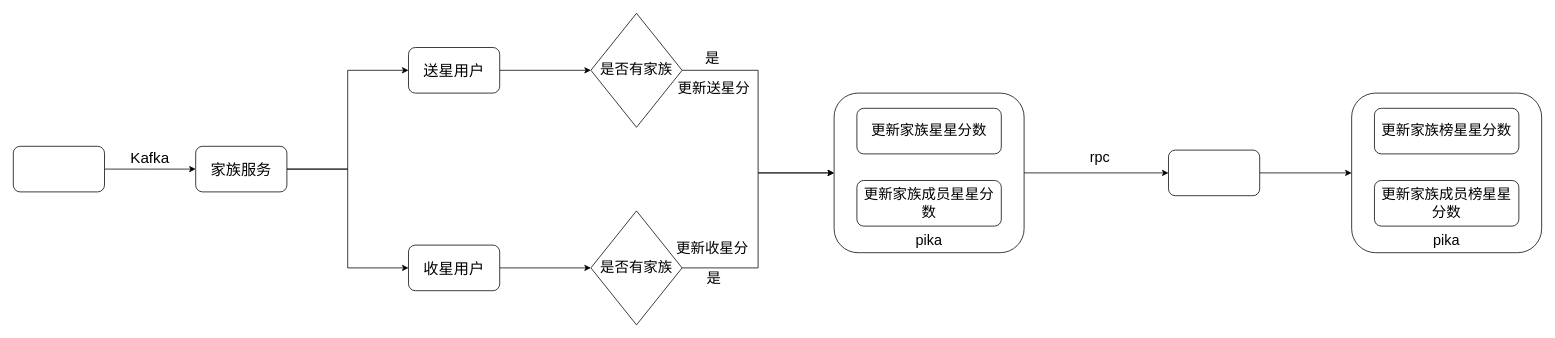
Some shapes in this 1555 by 338 pixel diagram are drawn without their labels. Here are the shapes that lost their labels. From the top down, the centre of each, then its label:
(x=58, y=169): 送星消息
(x=1214, y=172): 排行榜服务
